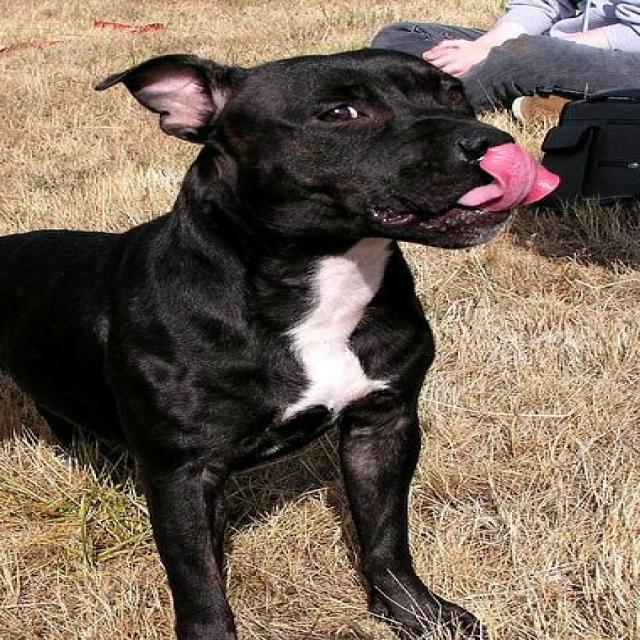staffordshire_bullterrier: (3, 48, 564, 638)
